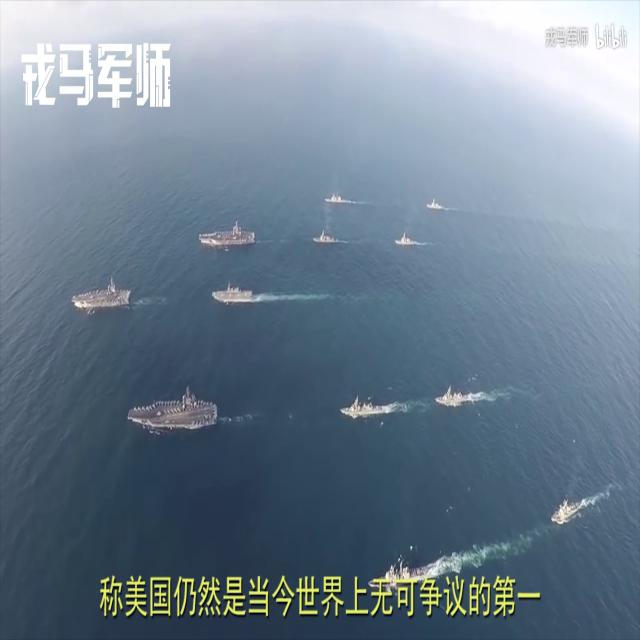navalvessels: (128, 383, 218, 430), (72, 278, 132, 310), (198, 217, 255, 247), (371, 557, 425, 586), (212, 278, 253, 308), (551, 490, 581, 523), (435, 382, 467, 409), (342, 397, 381, 417), (312, 227, 336, 246), (425, 191, 442, 211), (396, 232, 418, 246), (326, 191, 345, 204)
